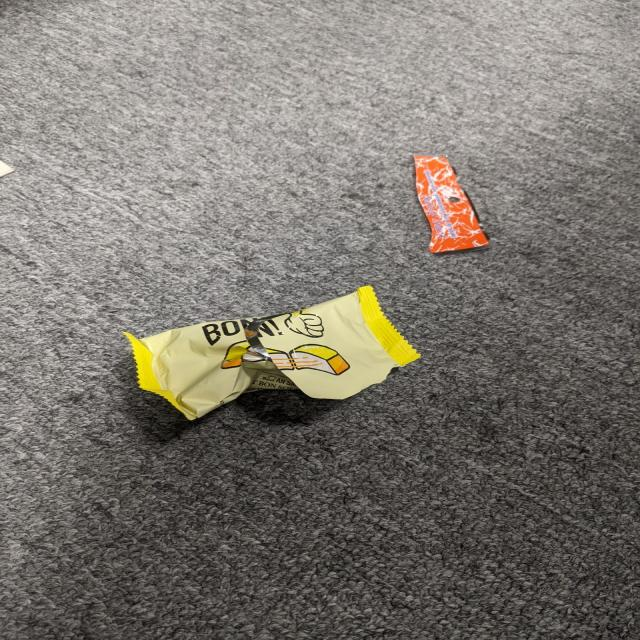packet: (120, 284, 423, 422), (414, 154, 493, 255)
